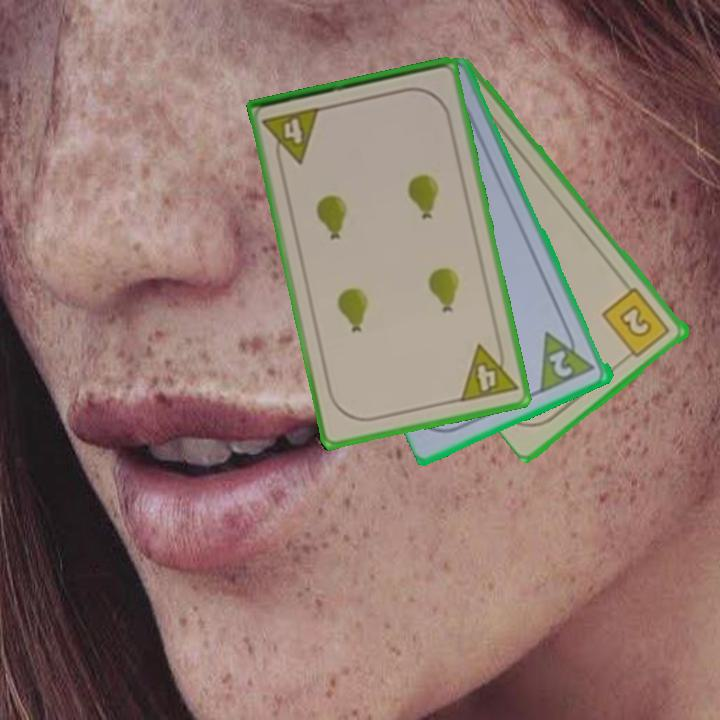2b: (599, 284, 674, 364)
2p: (537, 321, 599, 396)
4p: (456, 337, 521, 405), (259, 103, 324, 170)
